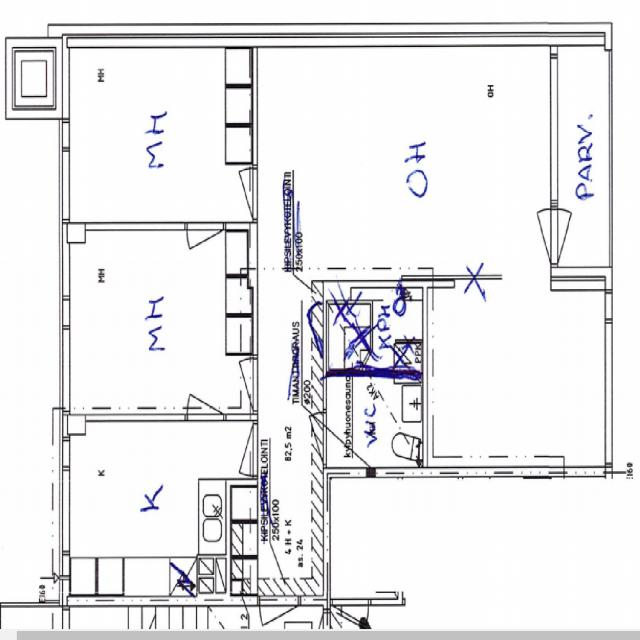door: (512, 209, 558, 263), (550, 209, 596, 263), (187, 361, 224, 420), (287, 411, 327, 463), (218, 358, 258, 410), (287, 304, 327, 355), (218, 424, 258, 475), (188, 223, 223, 279), (218, 168, 257, 218)
